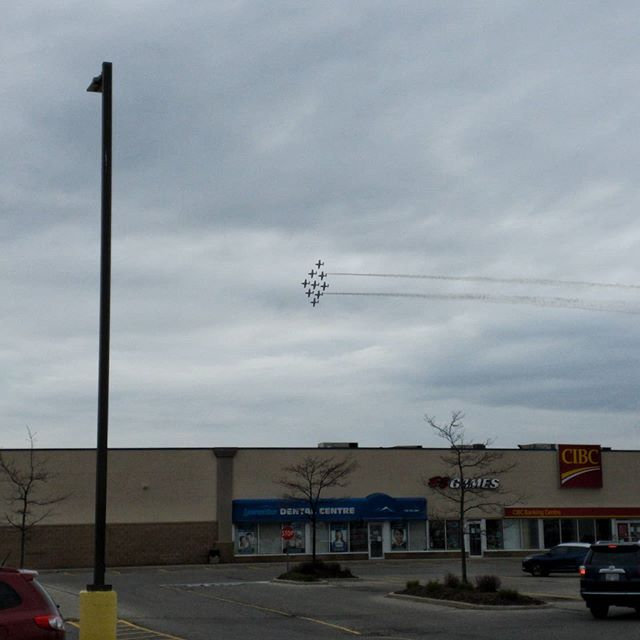building: (1, 450, 631, 564)
car: (580, 529, 640, 613), (515, 538, 594, 580)
plane: (291, 254, 341, 310)
sky: (1, 1, 637, 443)
street: (75, 564, 640, 640)
tree: (415, 402, 516, 596), (280, 451, 363, 574)
